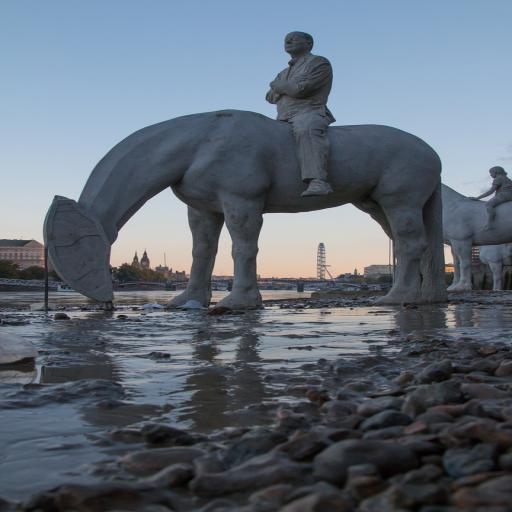horse: (52, 106, 442, 308), (440, 186, 512, 290), (478, 244, 512, 290)
